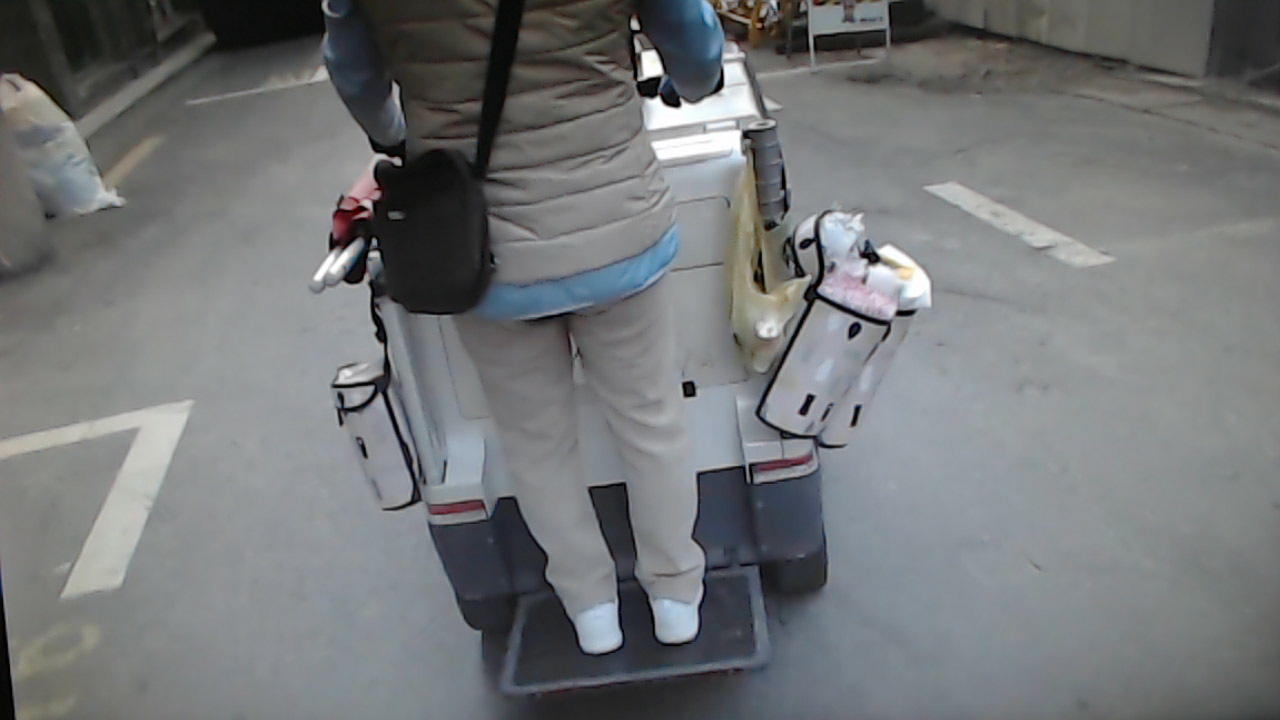Yakurut: (320, 3, 751, 670)
